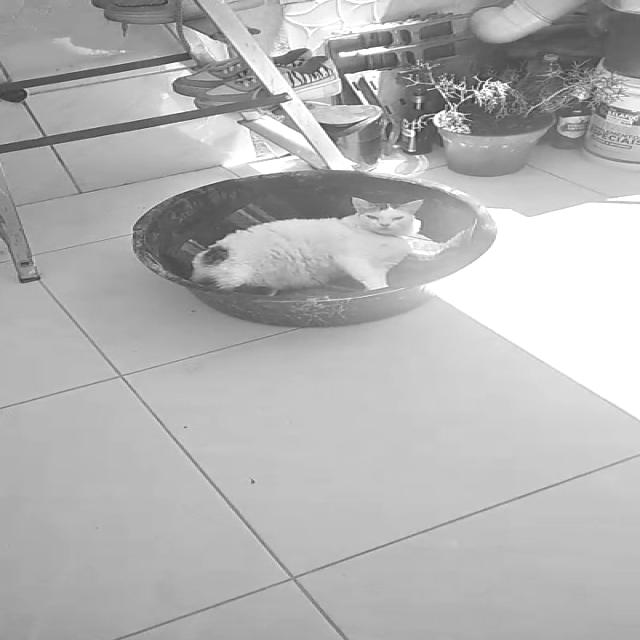Simba: (168, 186, 462, 288)
